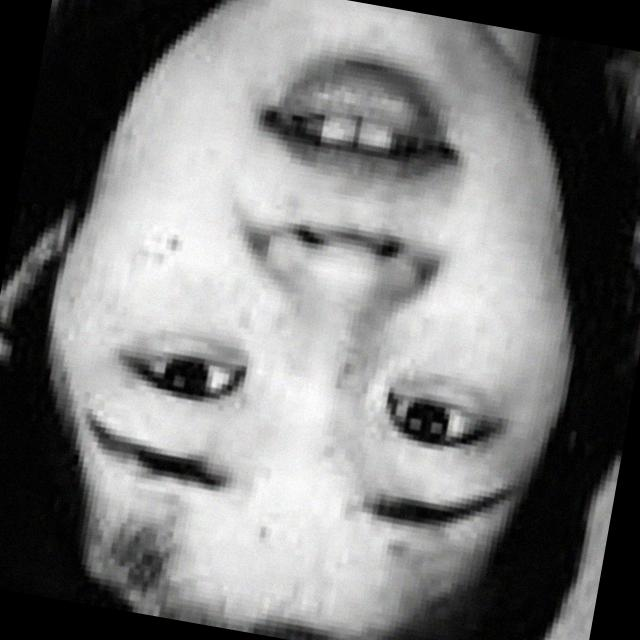fear: (46, 0, 595, 637)
